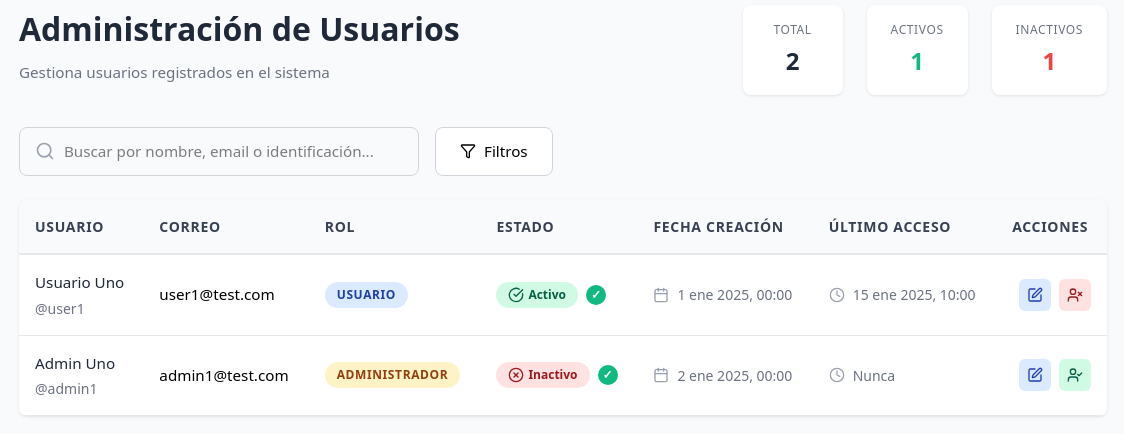
Scenario: AdminUsers › debe mostrar mensaje cuando no hay resultados con filtros
Expected: the text "Usuario Uno" is shown, [35,271,127,294]
Type "usuario-inexistente" into the field with placeholder "Buscar por nombre, email o identificación..." at (219, 151), box [19,127,419,176]
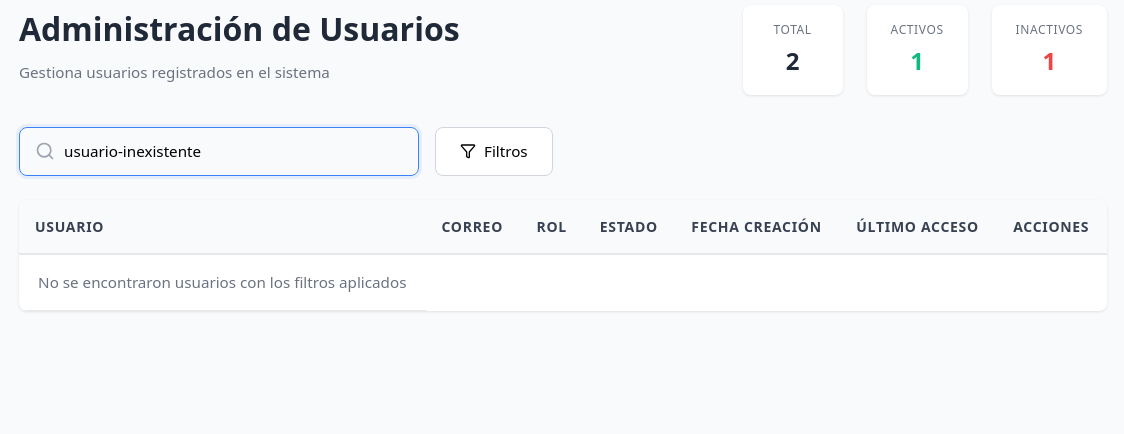
Expected: the text "No se encontraron usuarios con los filtros aplicados" is shown, [19,255,426,311]
